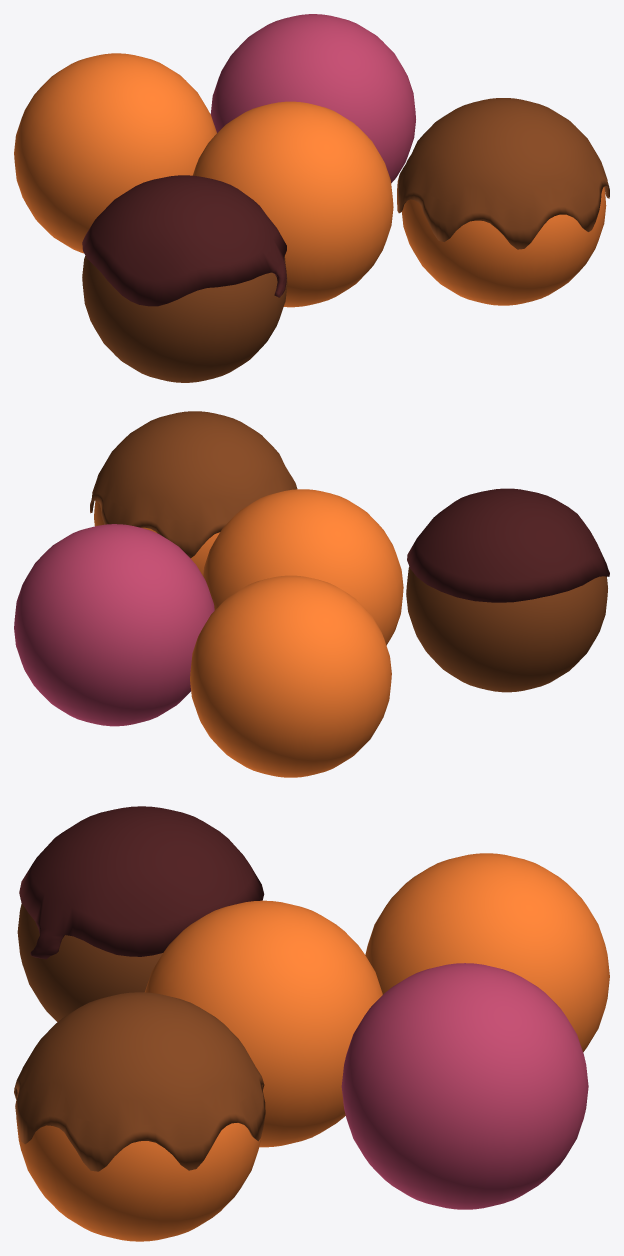
The model's file is donut_holes.fbx.
The picture shows the model from 3 angles, top to bottom: view 1: azimuth 30°, elevation 25°; view 2: azimuth 150°, elevation 25°; view 3: azimuth 270°, elevation 25°; orthographic projection. The views are drawn at different scales.
Parts seen in each view (by area): view 1: donut holes.001; view 2: donut holes.001; view 3: donut holes.001.
Boxes of the visible parts, <box> form: donut holes.001: <box>14,14,609,382</box>; donut holes.001: <box>14,411,609,777</box>; donut holes.001: <box>14,806,609,1241</box>.
Size of the model in its own units: 190 by 68.79 by 164.
